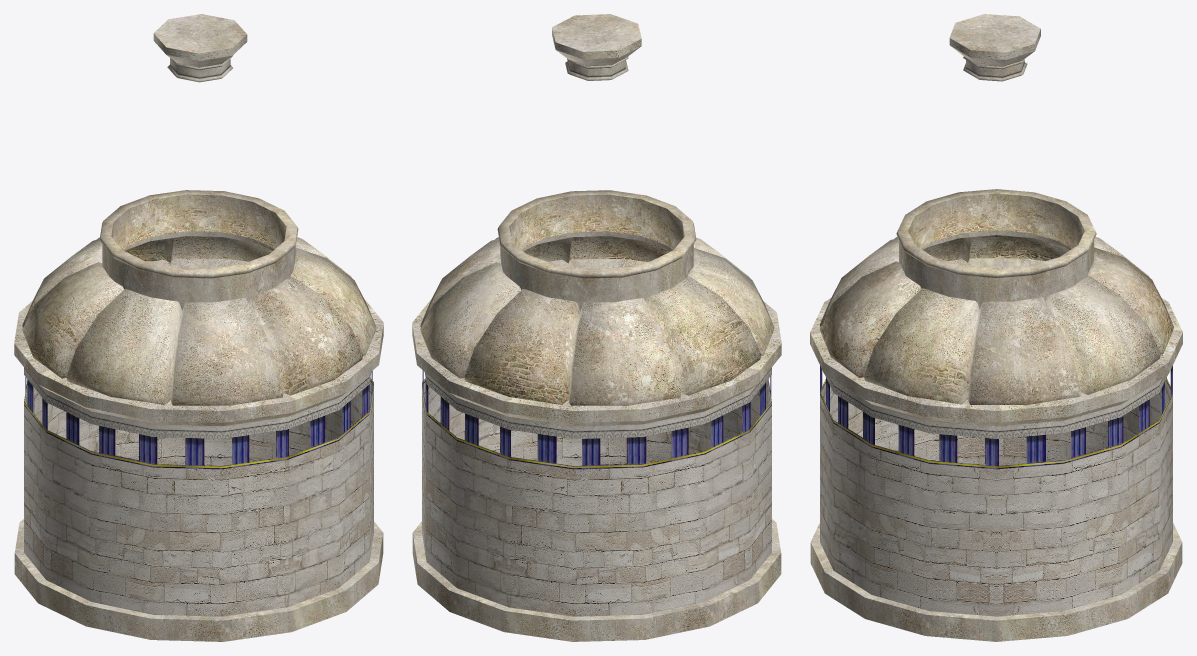
File: tropaion_struct.dae
3 views of the same model, side by side, from view 1: azimuth 30°, elevation 25°; view 2: azimuth 150°, elevation 25°; view 3: azimuth 270°, elevation 25° (orthographic).
Visible parts, largest first — view 1: hele_struct; view 2: hele_struct; view 3: hele_struct.
Boxes of the visible parts, x1=… form: hele_struct: x1=14, y1=14, x2=383, y2=641; hele_struct: x1=412, y1=14, x2=781, y2=641; hele_struct: x1=810, y1=14, x2=1182, y2=641.
Bounding box in the file's own units: 5.89 × 5.89 × 9.25.
Materials: 1 (1 with a texture image).
